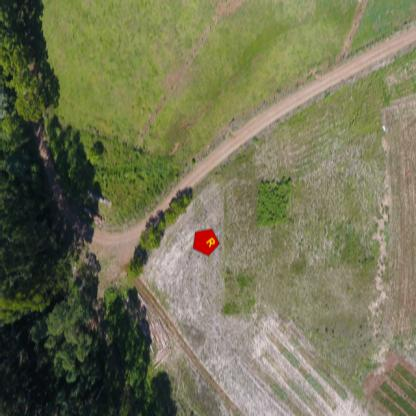R: (206, 236, 216, 248)
pentagon: (194, 228, 222, 258)
